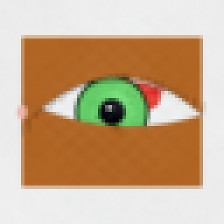hemorrhage_spot: (104, 71, 169, 123)
